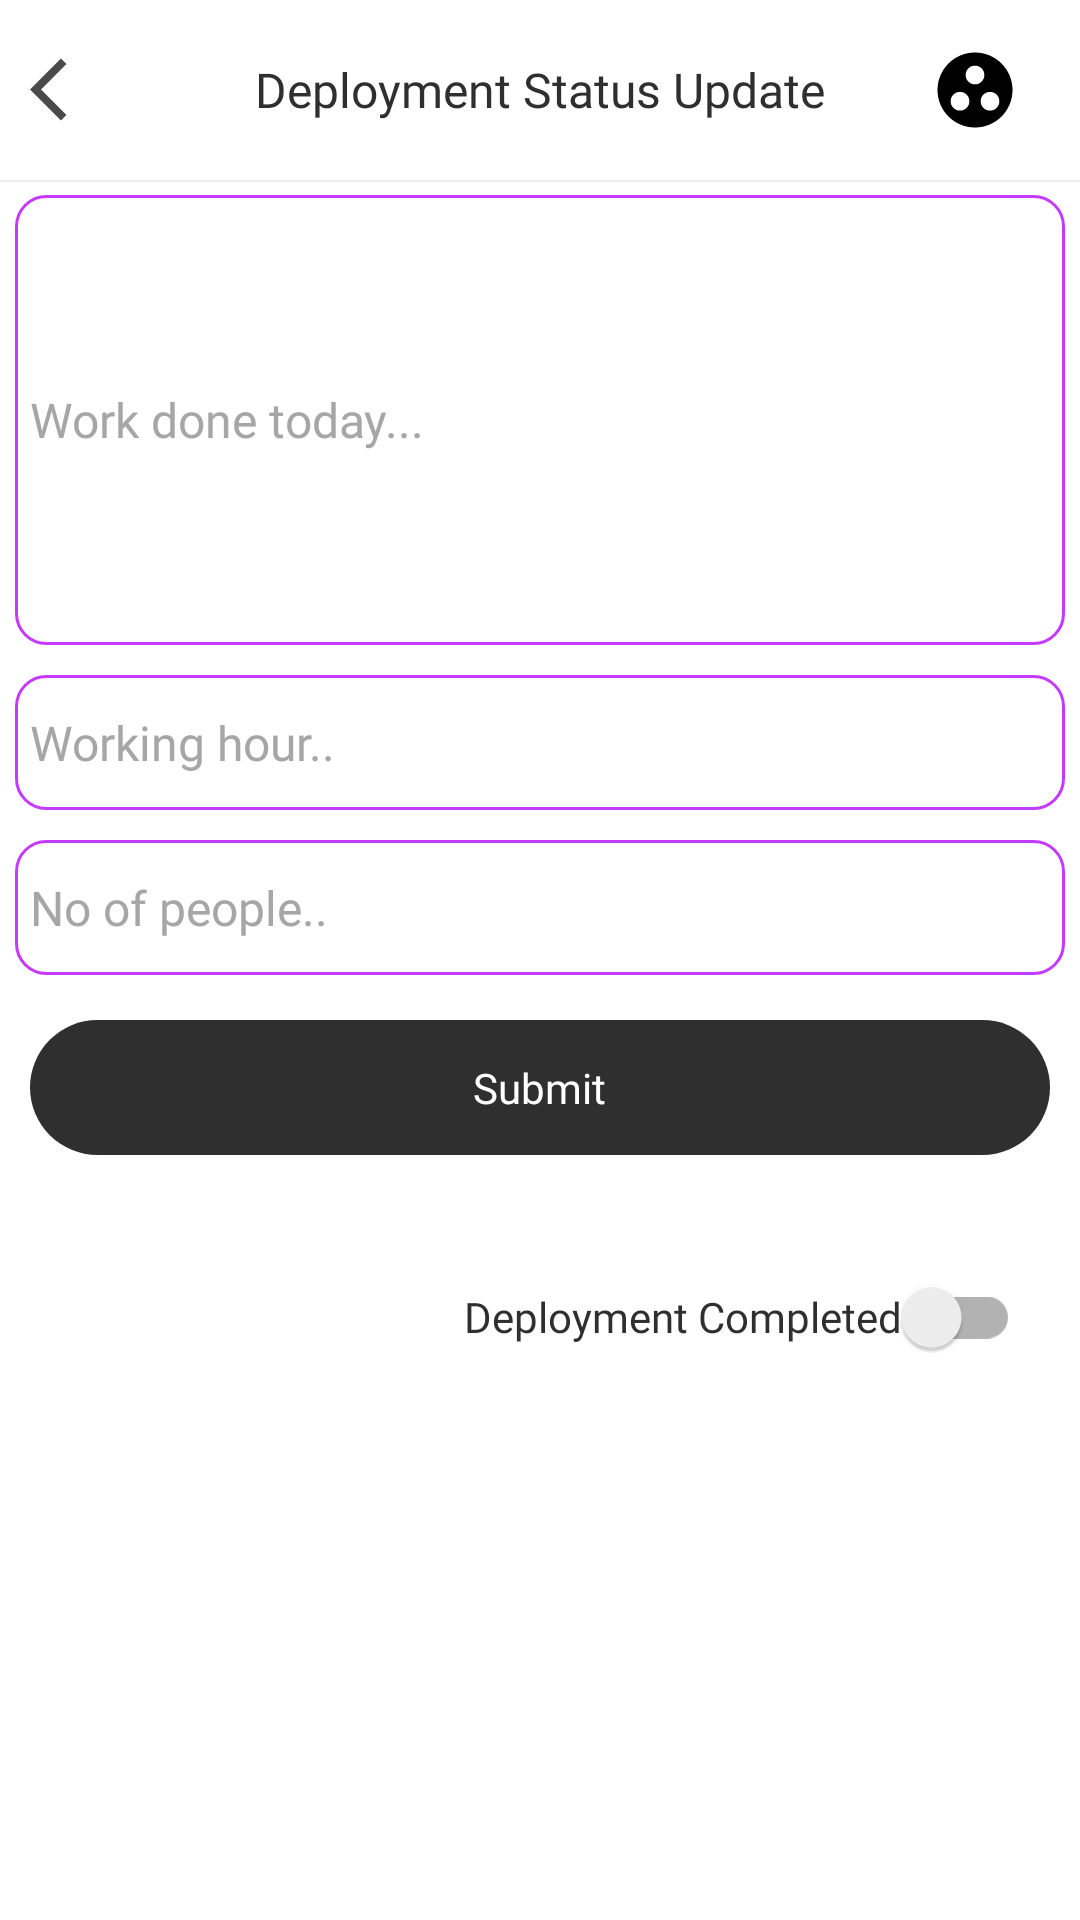

Icons on this 1080 × 1920 Android screen, each with the point to tap as point (x, y):
arrow back: point (48, 89)
group work: point (975, 90)
